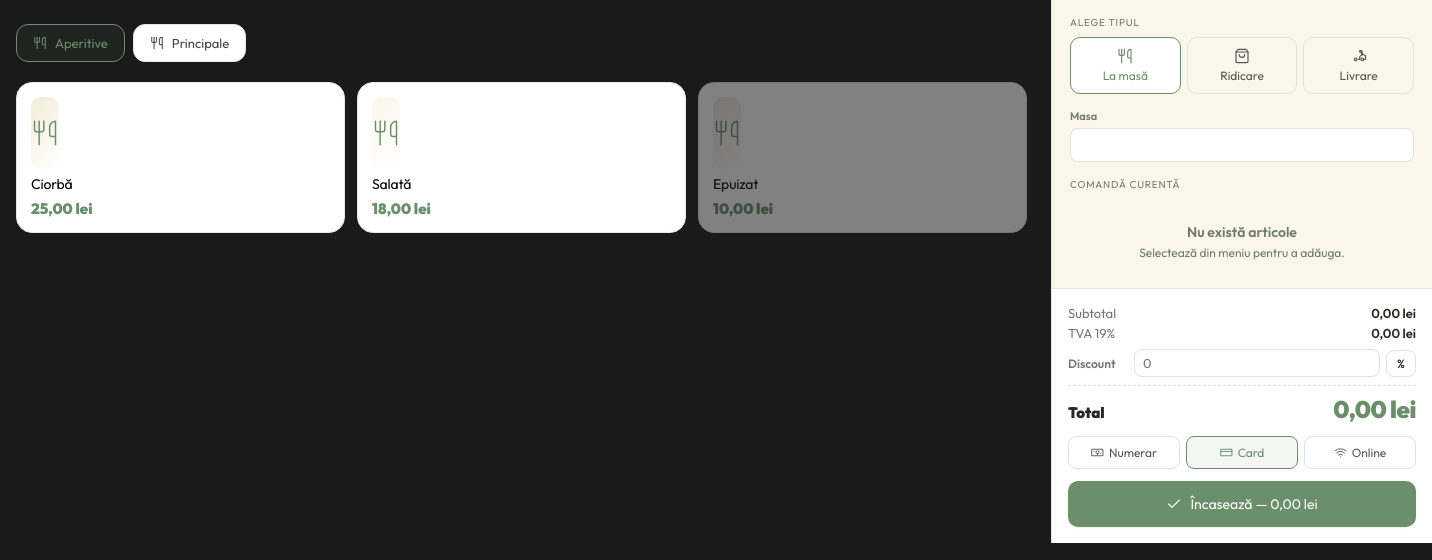
Test: PosScreen › POS-02: cart quantity adjustment › clicking minus on a cart item decrements quantity; reaches 0 removes item
Add Ciorbă to cart
Step 1. Click the button "Ciorbă 25,00 lei" → x=52, y=184, box 16,82 -> 345,233
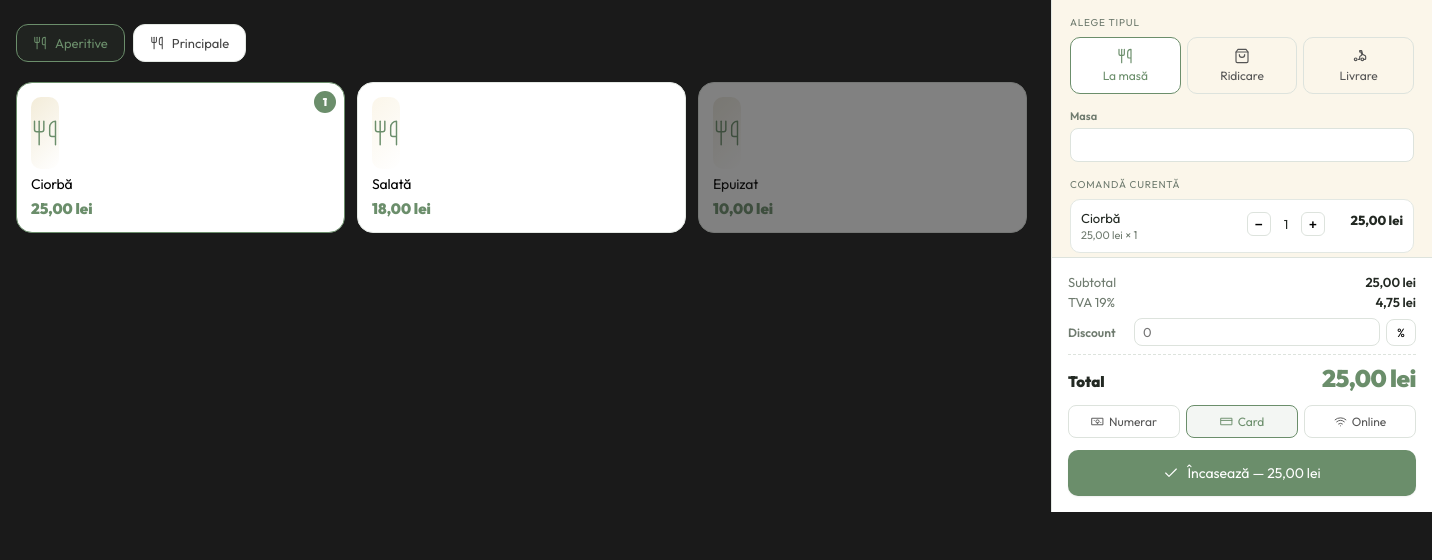
Step 2. Click the button "−" → x=1259, y=224, box 1247,212 -> 1271,236
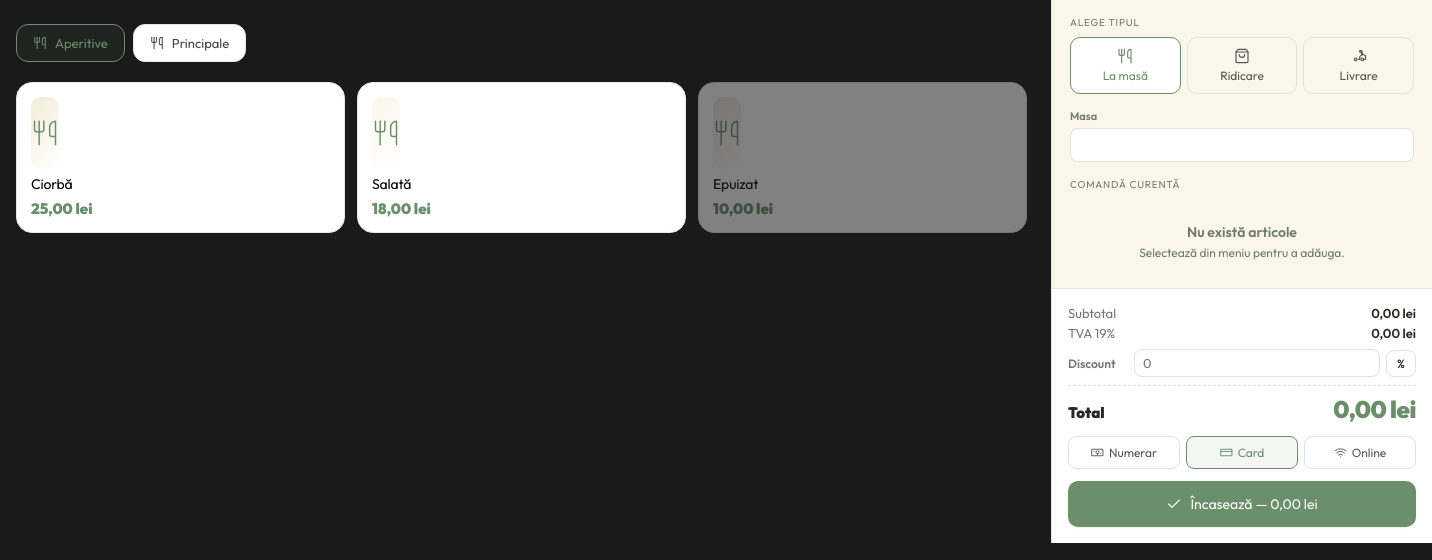
Expected: the text "Nu există articole" is shown, 1187,223 -> 1297,241
